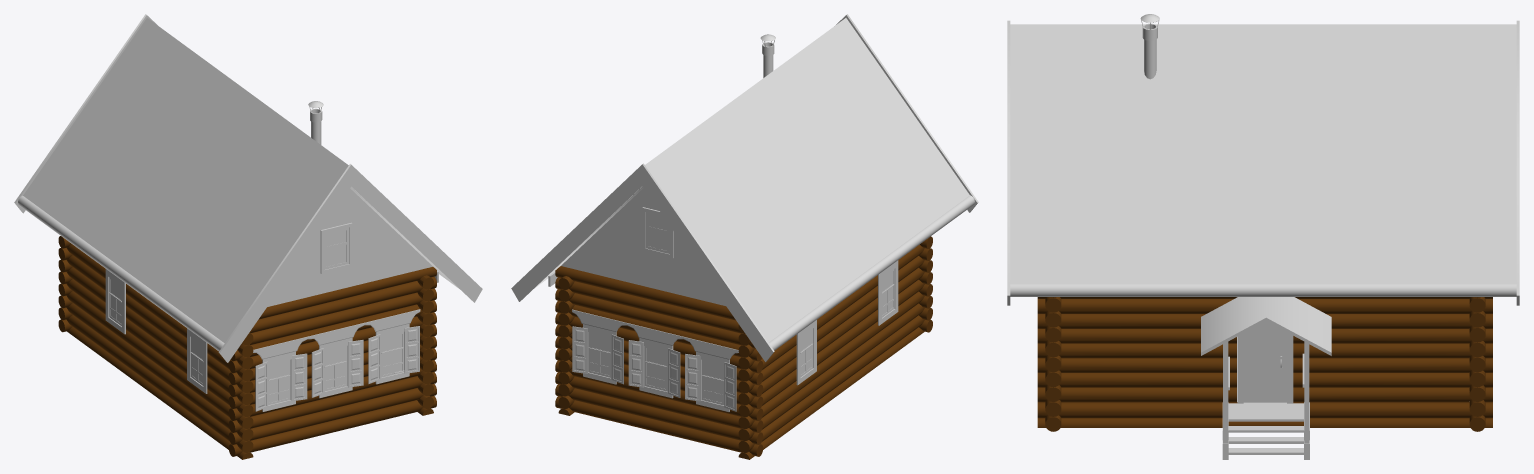
Rendered from Izba.FBX.
The picture shows the model from 3 angles, left to right: view 1: azimuth 30°, elevation 25°; view 2: azimuth 150°, elevation 25°; view 3: azimuth 270°, elevation 25°; orthographic projection. The views are drawn at different scales.
Parts seen in each view (by area): view 1: Box012, Cylinder052, Plane009, Plane011; view 2: Box012, Cylinder052, Plane009, Plane011; view 3: Box012, Cylinder052.
Part boxes in pixels (x1,y1,x2,y2): Box012: [14, 14, 482, 411]; Cylinder052: [58, 236, 436, 459]; Plane009: [187, 328, 207, 393]; Plane011: [105, 269, 125, 334]; Box012: [511, 14, 978, 411]; Cylinder052: [555, 236, 932, 459]; Plane009: [878, 260, 898, 325]; Plane011: [796, 320, 816, 385]; Box012: [1007, 14, 1519, 459]; Cylinder052: [1037, 297, 1492, 431].
Bounding box in the file's own units: 912 × 905 × 1140.
